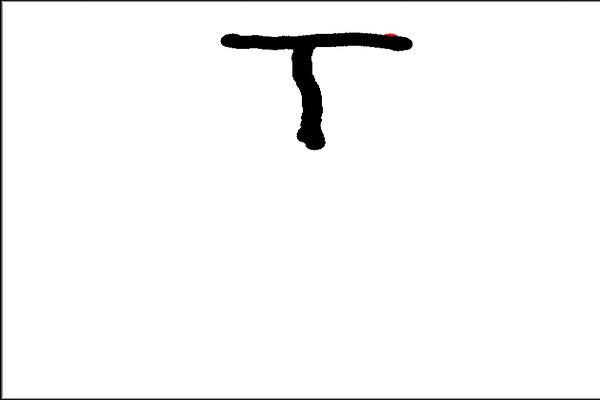T: (218, 21, 417, 155)
